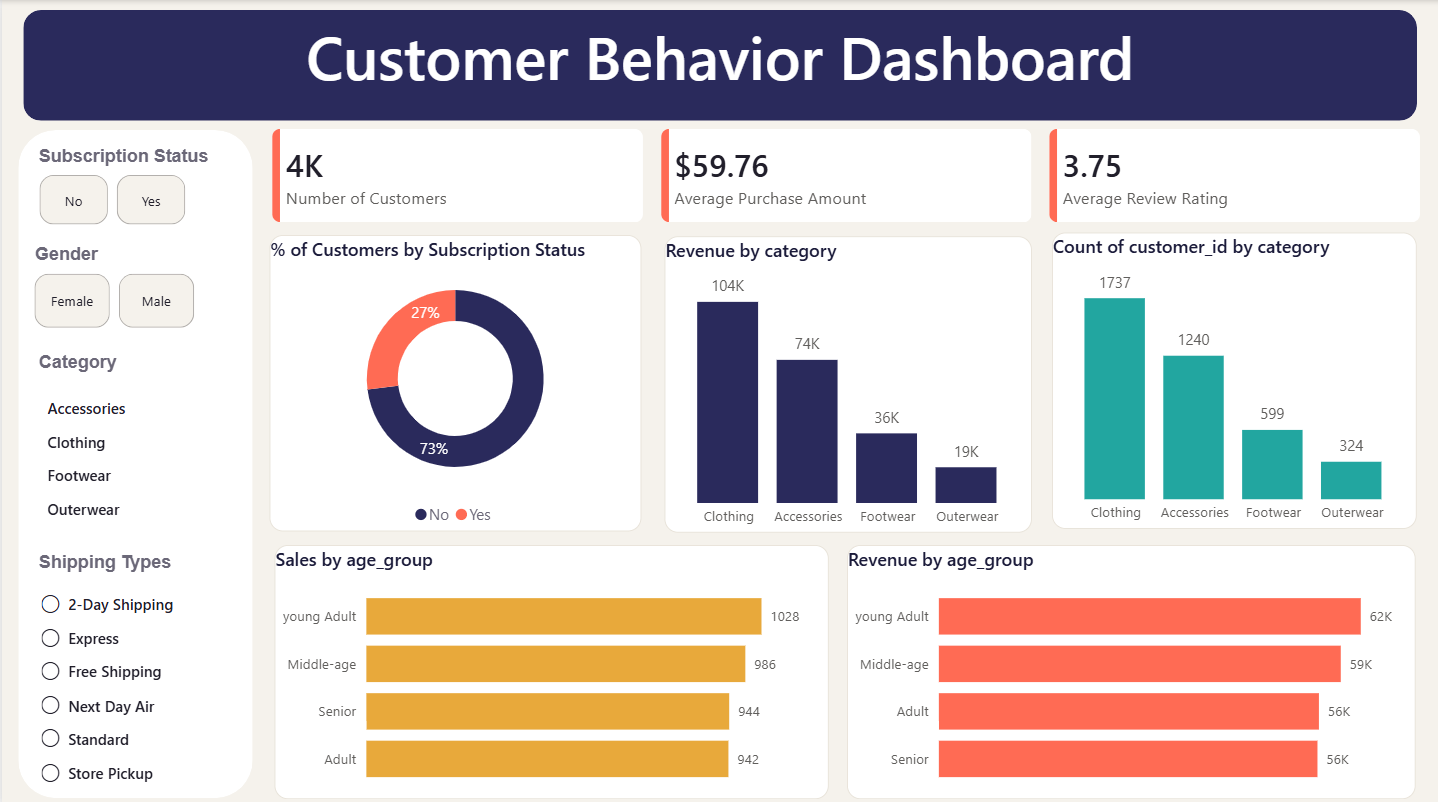

This screenshot's page, from the dashboard's own definition file:
{"tool":"powerbi","page":{"name":"Page 1","canvas":[1280,720],"ordinal":0},"visuals":[{"type":"cardVisual","fields":{"Data":["customer_behavior customer.Number of Customers","customer_behavior customer.Average Purchase Amount","customer_behavior customer.Average Review Rating"]},"box":[223.8,97.5,1056.2,117],"z":0},{"type":"shape","box":[18.8,8.8,1241.2,98.8],"z":1000},{"type":"textbox","box":[18.8,8.8,1241.2,98.8],"z":2000},{"type":"donutChart","title":"% of Customers by Subscription Status","fields":{"Y":["CountNonNull(customer_behavior customer.customer_id)"],"Category":["customer_behavior customer.subscription_status"]},"box":[238.8,208.8,331.2,263.8],"z":3000},{"type":"columnChart","fields":{"Y":["customer_behavior customer.Revenue"],"Category":["customer_behavior customer.category"]},"box":[590,210,327.5,263.8],"z":4000},{"type":"columnChart","fields":{"Category":["customer_behavior customer.category"],"Y":["CountNonNull(customer_behavior customer.customer_id)"]},"box":[935,207.5,325,263.8],"z":5000},{"type":"barChart","fields":{"Y":["customer_behavior customer.Revenue"],"Category":["customer_behavior customer.age_group"]},"box":[752.5,485,506.2,226.2],"z":6000},{"type":"barChart","fields":{"Category":["customer_behavior customer.age_group"],"Y":["CountNonNull(customer_behavior customer.customer_id)"]},"box":[242.5,485,493.8,226.2],"z":7000},{"type":"shape","box":[15,116.2,208.8,595],"z":8000},{"type":"advancedSlicerVisual","fields":{"Values":["customer_behavior customer.subscription_status"]},"box":[33.8,155.6,199.1,44.6],"z":9000},{"type":"textbox","box":[27.5,123.8,198.8,32.5],"z":10000},{"type":"advancedSlicerVisual","fields":{"Values":["customer_behavior customer.gender"]},"box":[29,243.7,217.2,48.3],"z":11000},{"type":"textbox","box":[25,210,217.5,33.8],"z":12000},{"type":"textbox","box":[27.5,307.5,217.5,32.5],"z":13000},{"type":"listSlicer","fields":{"Values":["customer_behavior customer.category"]},"box":[25,342.5,198.8,142.5],"z":14000},{"type":"listSlicer","fields":{"Values":["customer_behavior customer.shipping_type"]},"box":[28.8,517.5,198.8,193.8],"z":15000},{"type":"textbox","box":[27.5,485,217.5,32.5],"z":16000}]}

Visuals, with their boxes in screenshot pixels (x1, y1, x2, y2), scaled from the page's 1280x720 canvas onto the 1438x802 screenshot:
cardVisual - customer_behavior customer.Number of Customers x customer_behavior customer.Average Purchase Amount: box=[251, 109, 1437, 239]
shape: box=[21, 10, 1416, 120]
textbox: box=[21, 10, 1416, 120]
"% of Customers by Subscription Status" donutChart: box=[268, 233, 640, 526]
columnChart - customer_behavior customer.Revenue x customer_behavior customer.category: box=[663, 234, 1031, 528]
columnChart - customer_behavior customer.category x CountNonNull(customer_behavior customer.customer_id): box=[1050, 231, 1416, 525]
barChart - customer_behavior customer.Revenue x customer_behavior customer.age_group: box=[845, 540, 1414, 792]
barChart - customer_behavior customer.age_group x CountNonNull(customer_behavior customer.customer_id): box=[272, 540, 827, 792]
shape: box=[17, 129, 251, 792]
advancedSlicerVisual - customer_behavior customer.subscription_status: box=[38, 173, 262, 223]
textbox: box=[31, 138, 254, 174]
advancedSlicerVisual - customer_behavior customer.gender: box=[33, 271, 277, 325]
textbox: box=[28, 234, 272, 272]
textbox: box=[31, 343, 275, 379]
listSlicer - customer_behavior customer.category: box=[28, 382, 251, 540]
listSlicer - customer_behavior customer.shipping_type: box=[32, 576, 256, 792]
textbox: box=[31, 540, 275, 576]
